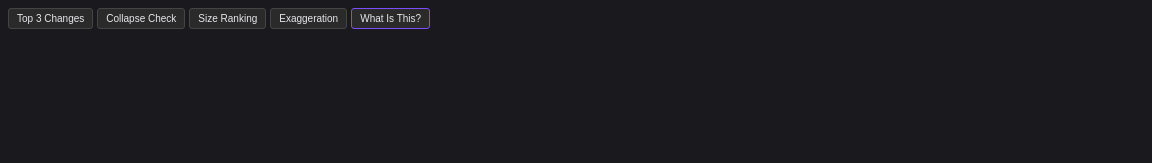
Test: VectorCopilotPanel › clear notes button removes all notes
Click the button "Collapse Check". click: [141, 18]
box: [97,8,185,29]
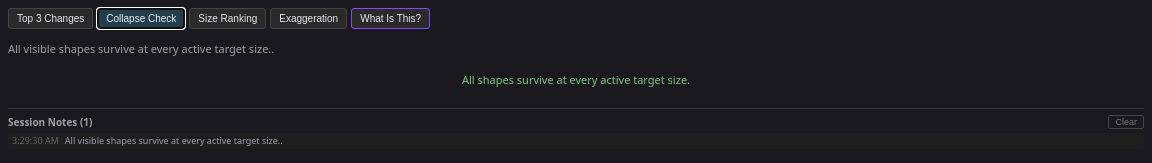
Check: the text "Session Notes (1)" is shown, box [8,115,92,129]
Note: Clear them
Click the button "Clear". click: [1126, 122]
box: [1108,115,1144,129]
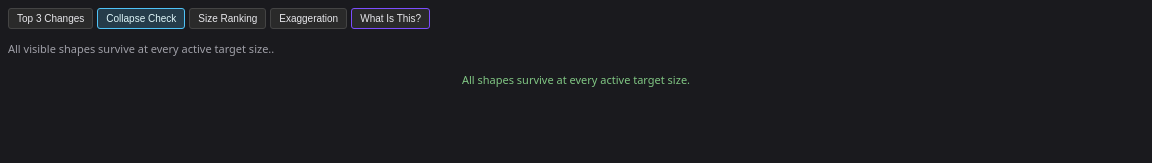
Check: the text "Session Notes" is gone
